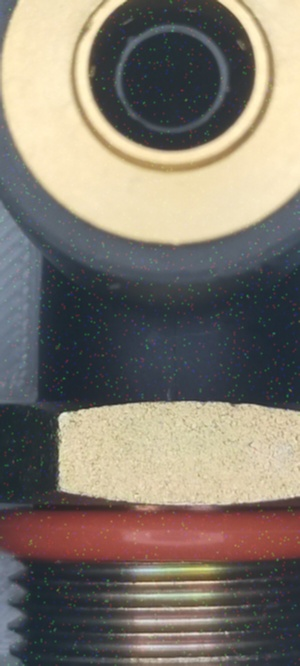joint line: (166, 313, 186, 364)
white mark: (161, 382, 179, 407)
